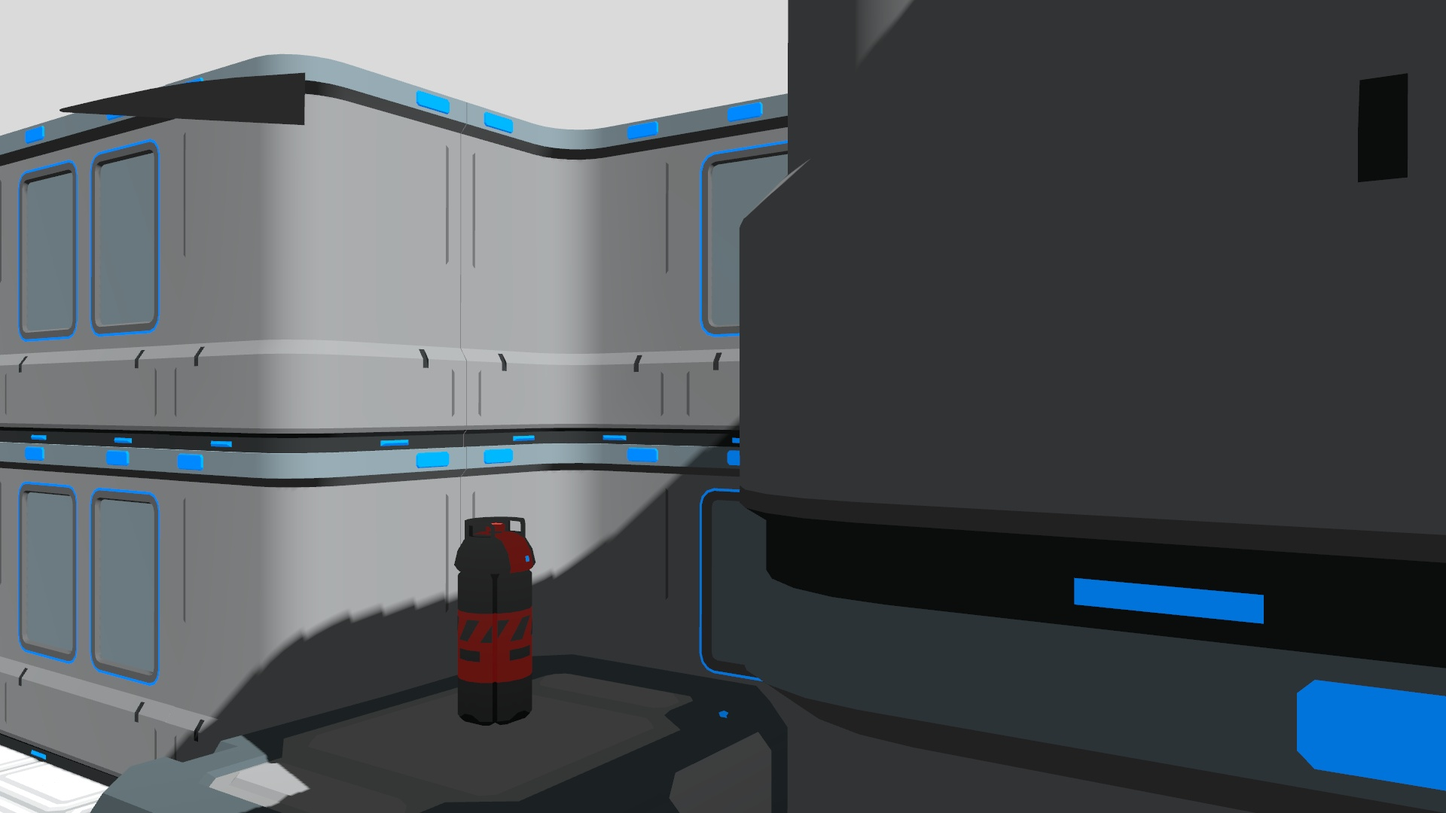red_barrel: (449, 511, 537, 733)
